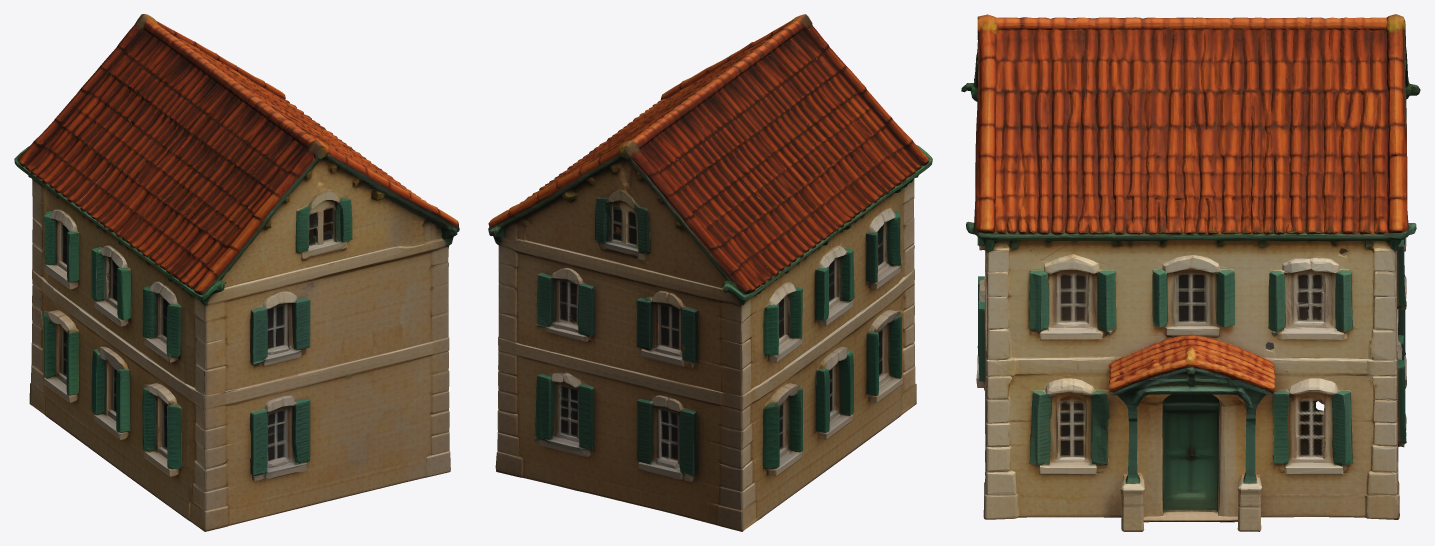
The model's file is r3_templer_house_a.glb.
3 renders of one model, left to right at view 1: azimuth 30°, elevation 25°; view 2: azimuth 150°, elevation 25°; view 3: azimuth 270°, elevation 25°, orthographic. The views are drawn at different scales.
Parts seen in each view (by area): view 1: world; view 2: world; view 3: world.
Part boxes in pixels (bbox=[...]): world: bbox=[14, 14, 459, 531]; world: bbox=[488, 14, 932, 531]; world: bbox=[961, 14, 1420, 531].
Bounding box in the file's own units: 0.8715 × 1 × 0.9686.
1 material, 1 textured.
